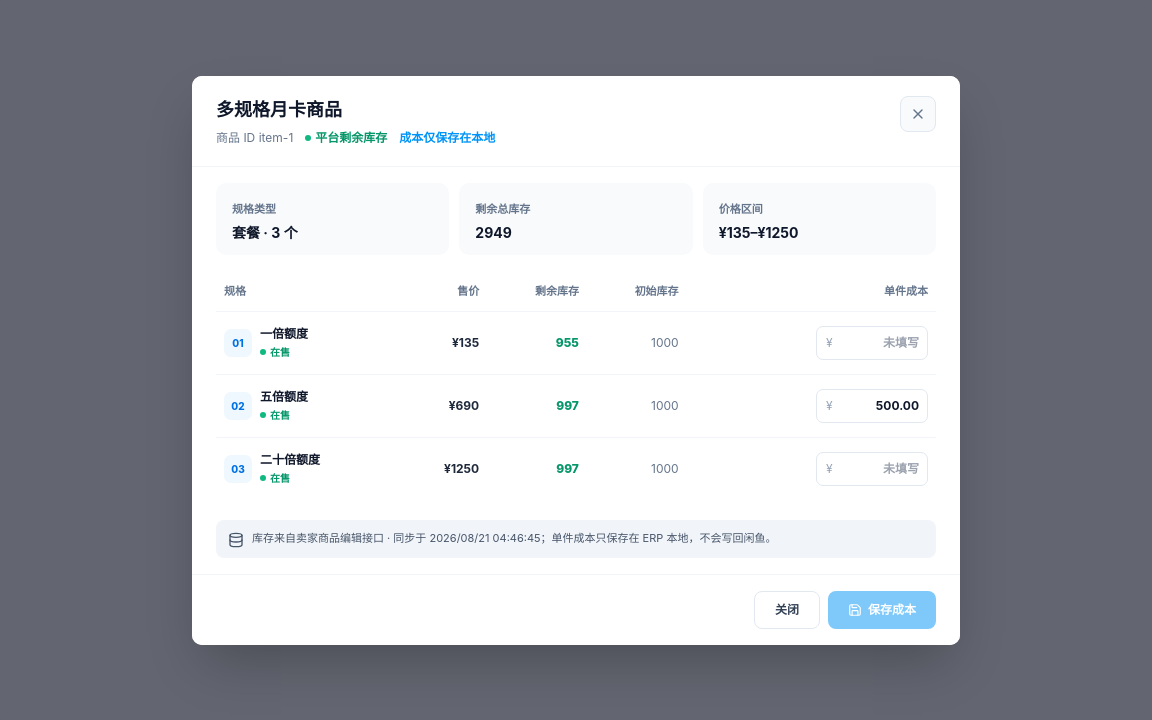
商品规格展示与统一成本保存 › 保存失败保留弹窗和草稿并同时回传失败提示
Note: input 是失败后必须保留原值的一倍额度成本输入。
Type "118" into the field named "一倍额度单件成本".
click(872, 342); type("118")  # box [816,326,928,360]
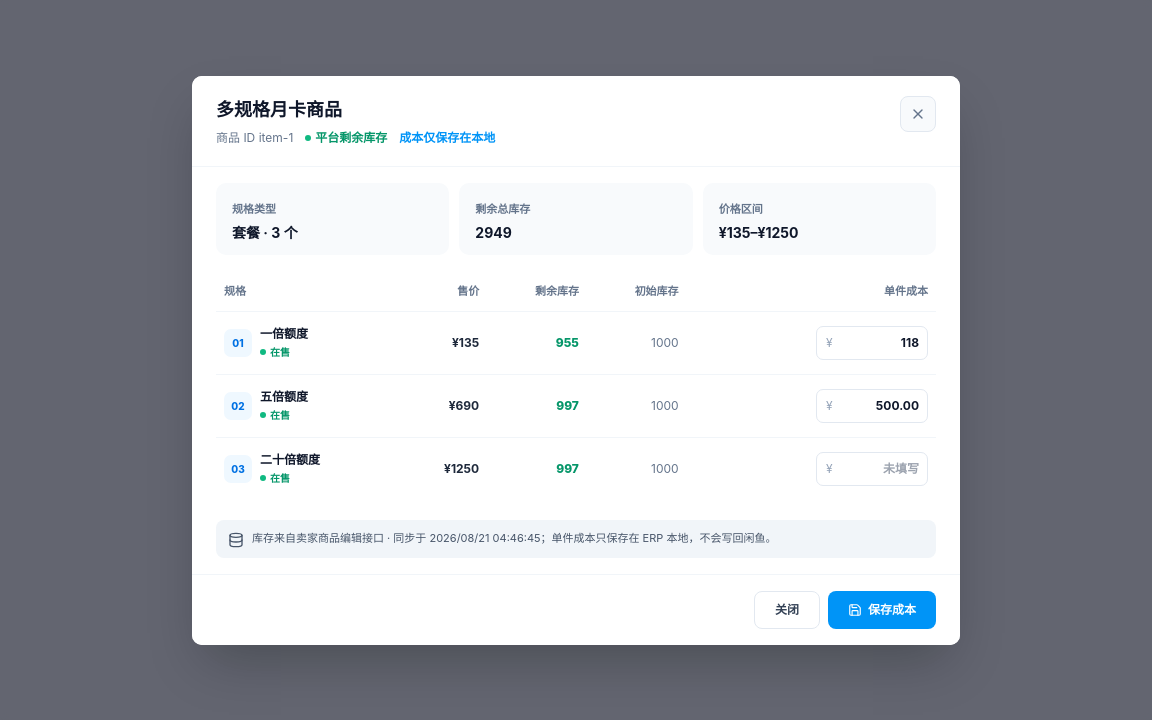
Click the button "保存成本".
click(882, 610)  # box [828,590,936,628]
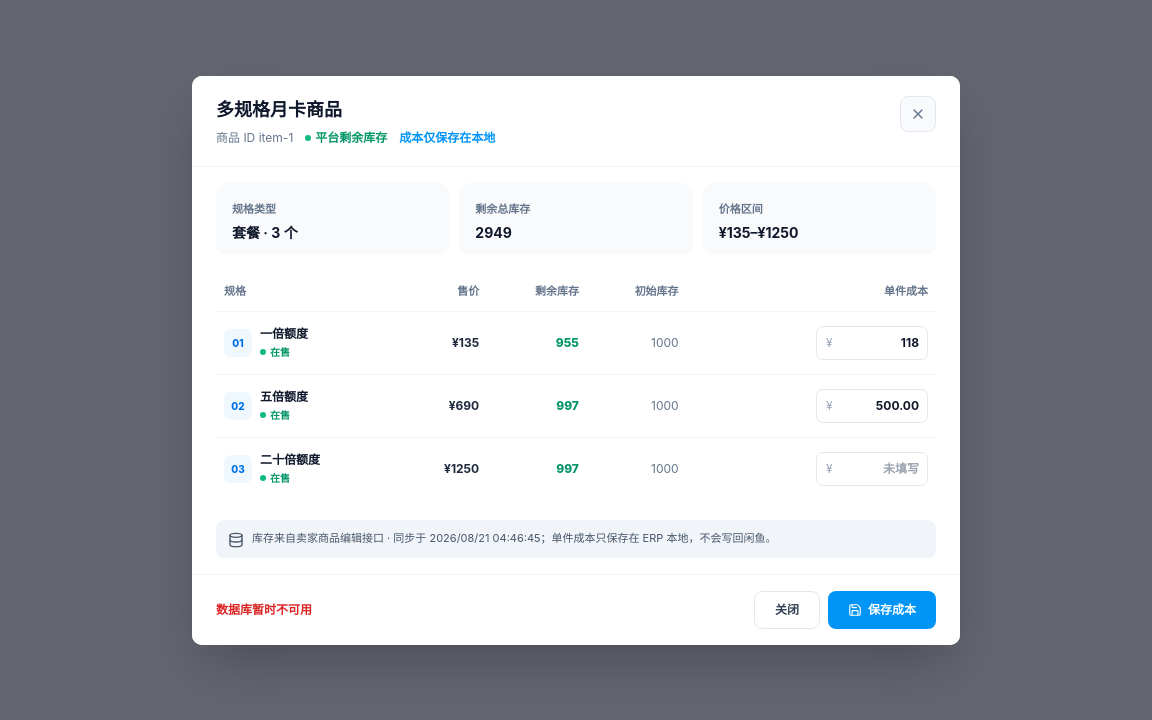
Expected: the dialog is shown, [192,76,960,644]
Result: the message reads "数据库暂时不可用" at [216,602,312,616]
